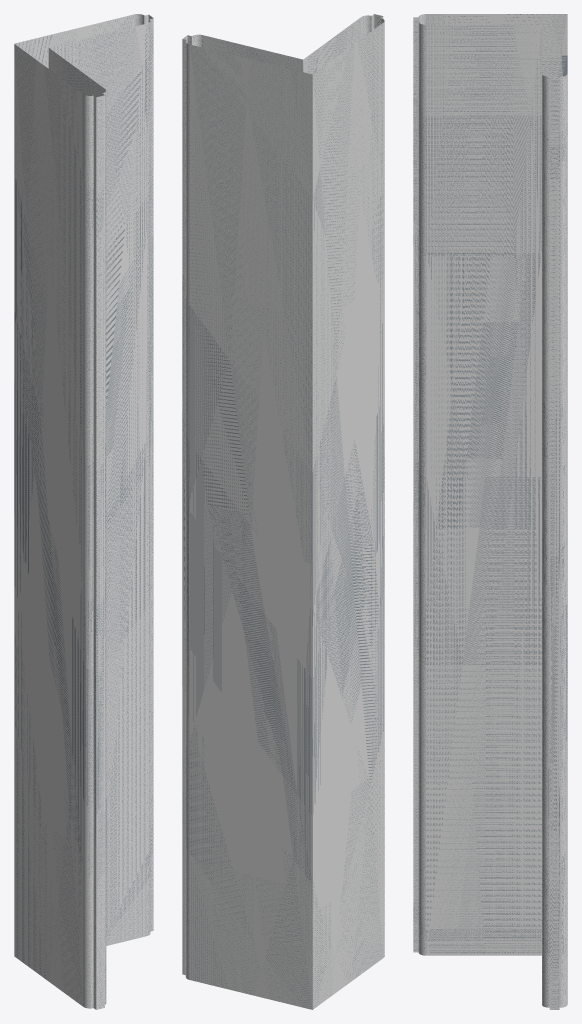
File: PW_CornerFixElem_ds_T1_060x060x010x400.dae
3 renders of one model, left to right at view 1: azimuth 30°, elevation 25°; view 2: azimuth 150°, elevation 25°; view 3: azimuth 270°, elevation 25°, orthographic. The views are drawn at different scales.
Parts seen in each view (by area): view 1: group_0; view 2: group_0; view 3: group_0.
Part boxes in pixels (x1,y1,x2,y2): group_0: (14,14,153,1009); group_0: (182,14,384,1009); group_0: (413,14,567,1009).
Bounding box in the file's own units: 23.62 × 23.62 × 157.
